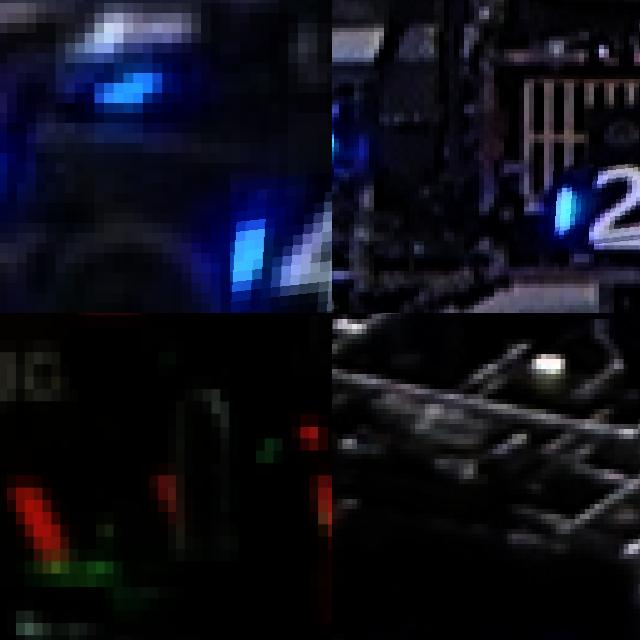B2: (549, 164, 640, 249)
B4: (230, 173, 332, 313)
